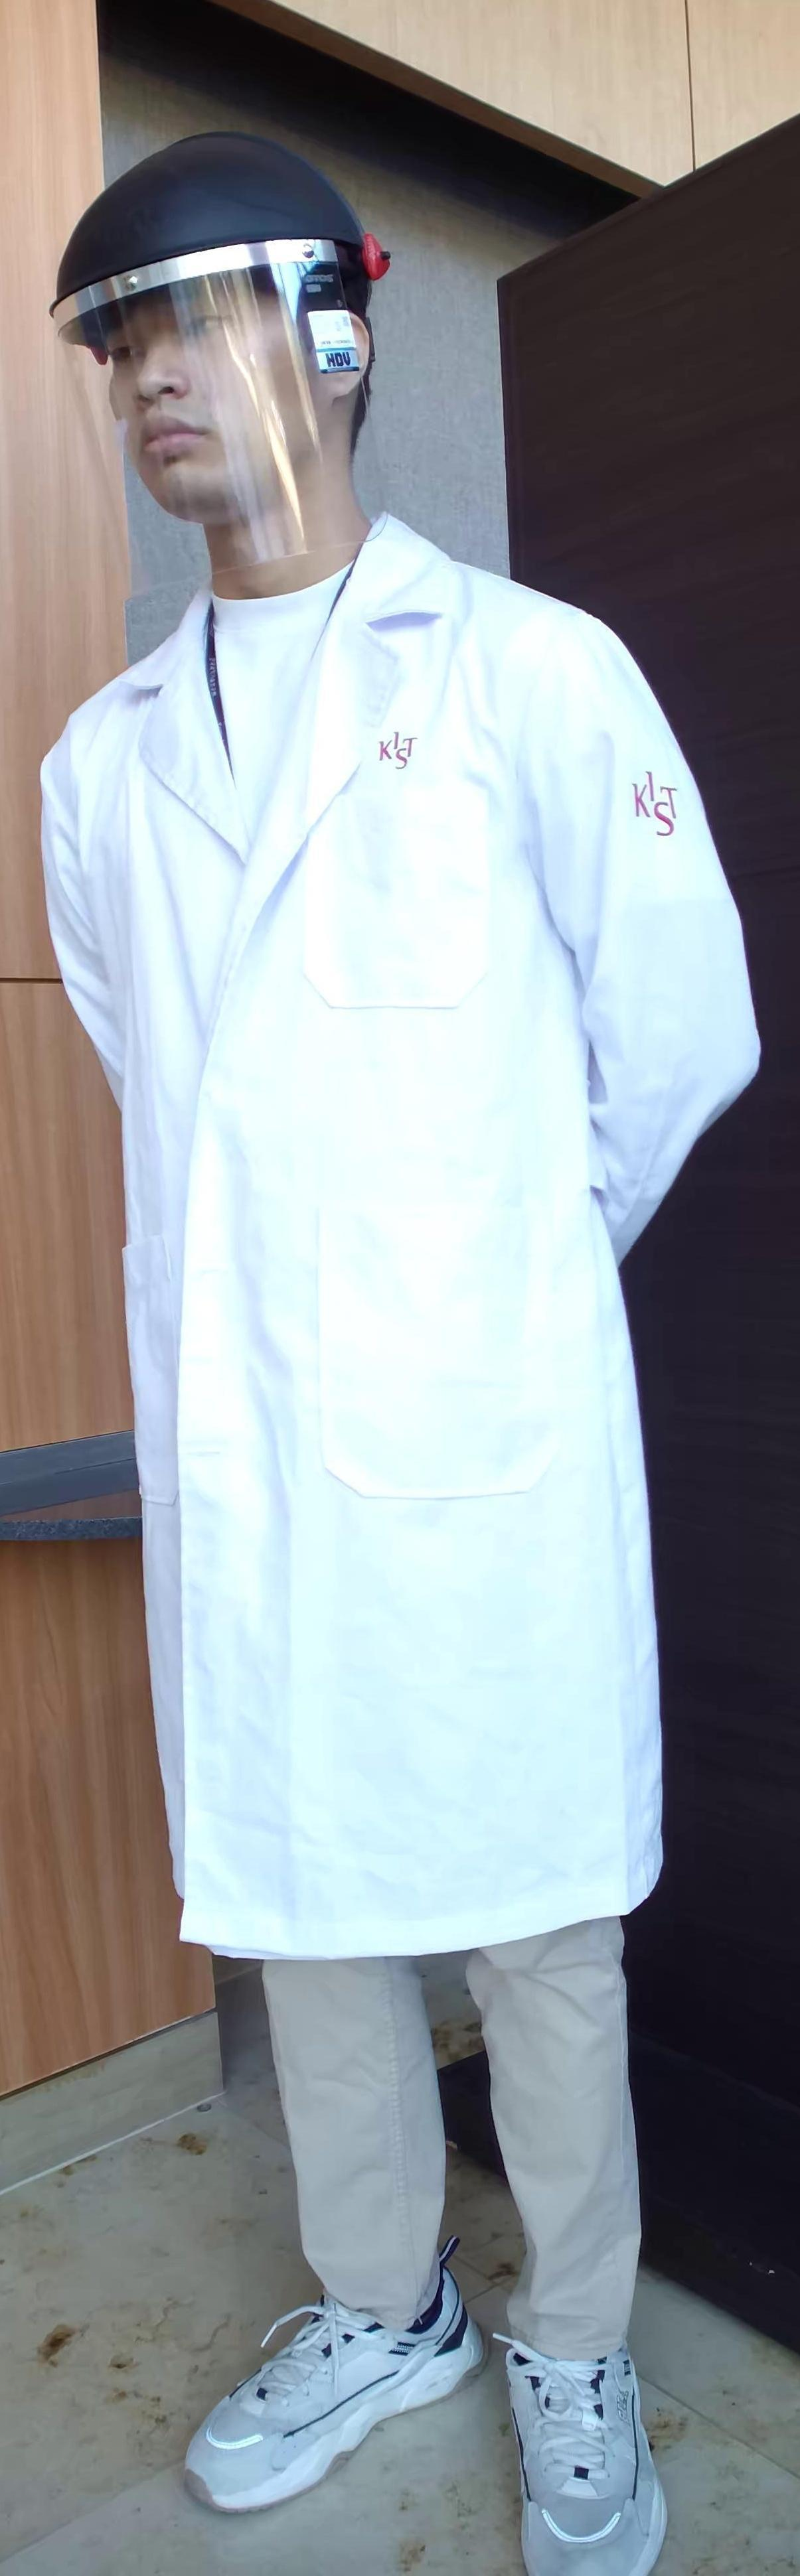lab_coat: (0, 605, 729, 1937)
